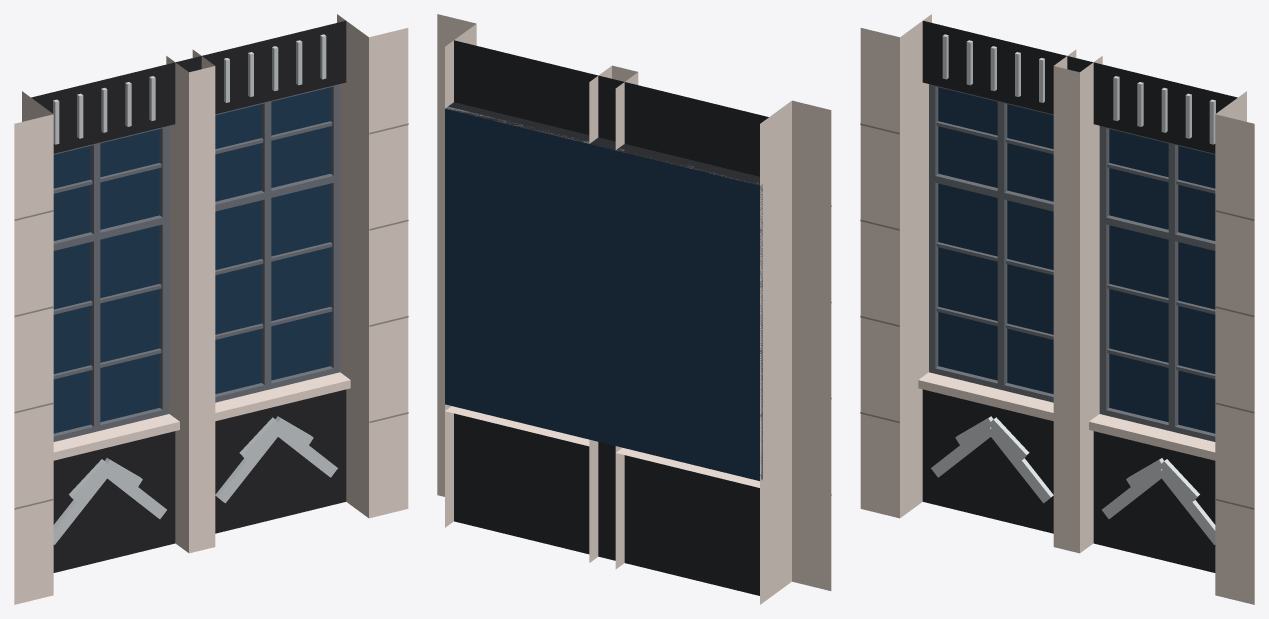
The model's file is mid-w1_close.fbx.
The picture shows the model from 3 angles, left to right: view 1: azimuth 30°, elevation 25°; view 2: azimuth 150°, elevation 25°; view 3: azimuth 330°, elevation 25°; orthographic projection.
Parts seen in each view (by area): view 1: a2011/600/mid-w1_close; view 2: a2011/600/mid-w1_close; view 3: a2011/600/mid-w1_close.
Part boxes in pixels (bbox=[...]): a2011/600/mid-w1_close: bbox=[14, 14, 408, 604]; a2011/600/mid-w1_close: bbox=[437, 14, 831, 604]; a2011/600/mid-w1_close: bbox=[860, 14, 1254, 604].
Bounding box in the file's own units: 3 × 3.5 × 0.424.
